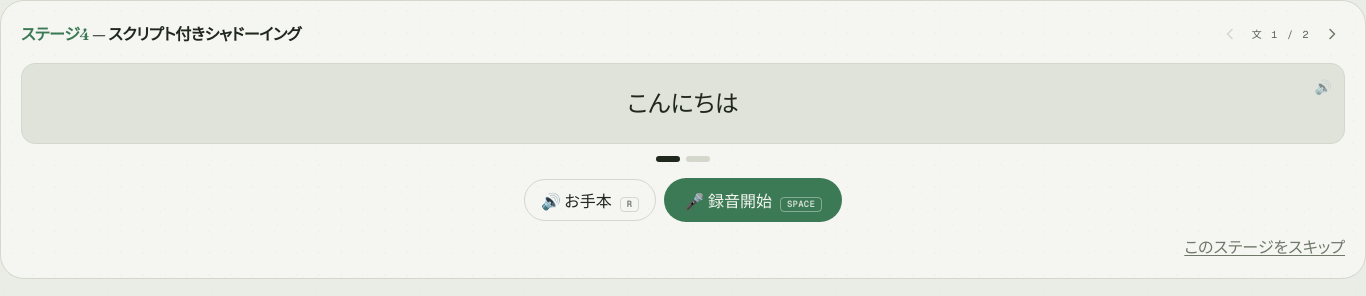
Test case: Stage4Panel › starts recording immediately on 録音開始, without playing the reference
Click the button "🎤 録音開始 Space". click: (753,200)
box: [664,178,842,222]
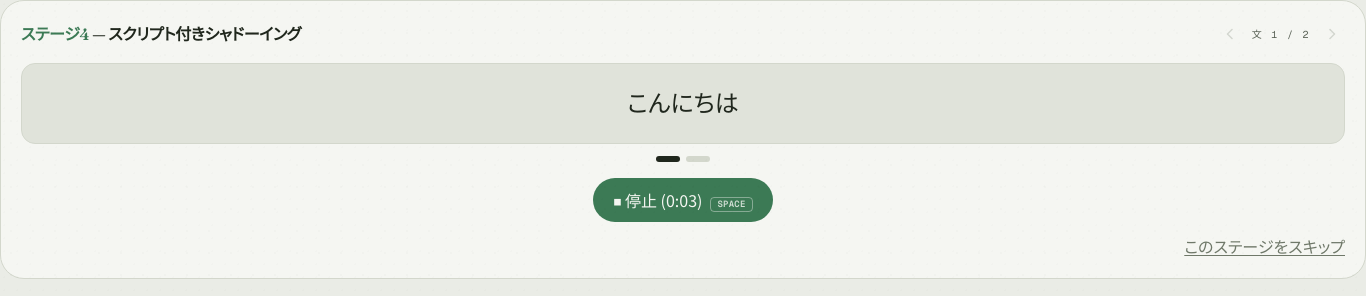
Result: the button "⏹ 停止 (0:03) Space" is shown at [593,178,773,222]
